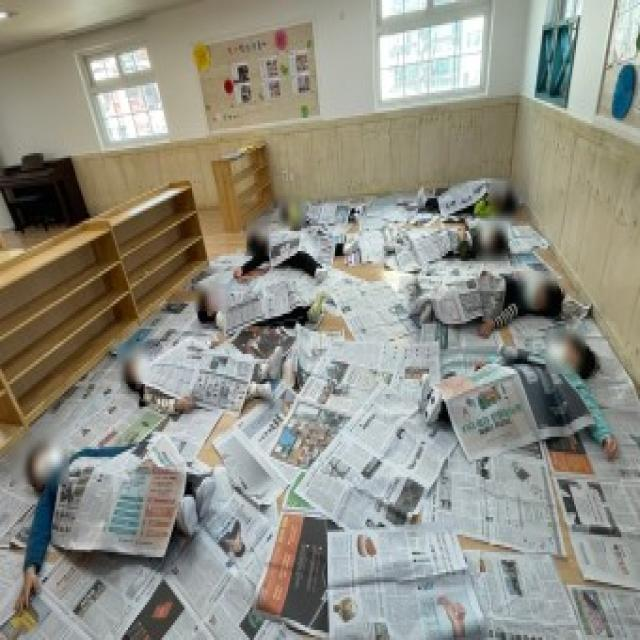Newspaper: (258, 372, 424, 624)
